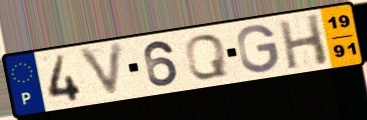4: (45, 52, 84, 104)
6: (141, 40, 180, 89)
G: (235, 23, 281, 75)
H: (276, 12, 332, 71)
Q: (183, 32, 230, 81)
V: (75, 40, 127, 101)
